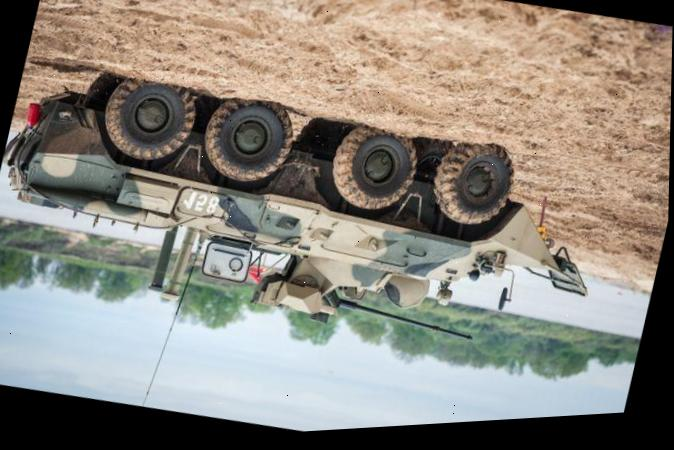tank: (0, 23, 626, 399)
